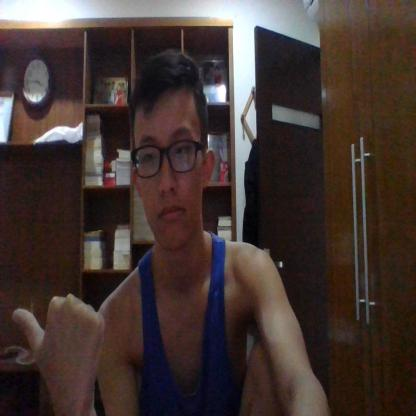right: (12, 284, 110, 411)
